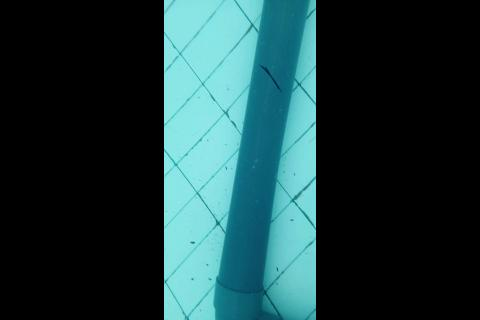keretakan: (259, 62, 282, 93)
